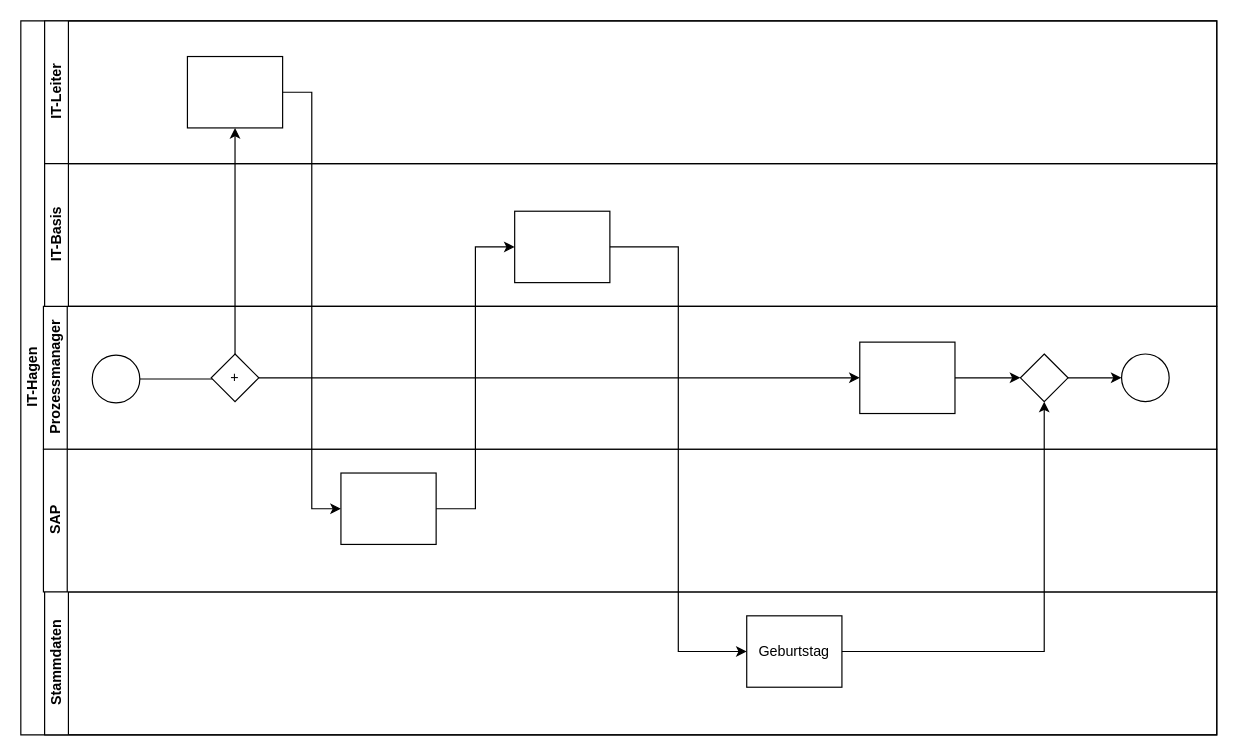
Image size: 1238x756. Some labels were removed from this diagram. The shapes that lost their labels are listed below. From the top down, each one's centre as x and y in pixels, then its label:
At pixel 234 91: "Herzlichen".
At pixel 561 246: "zum".
At pixel 907 377: "Frühstück".
At pixel 388 508: "Glückwunsch".
